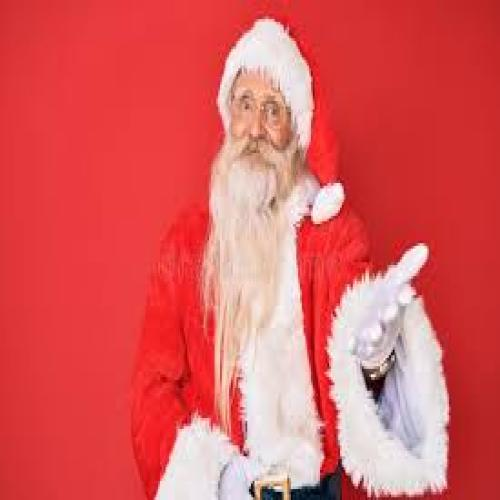Santa: (132, 13, 450, 500)
